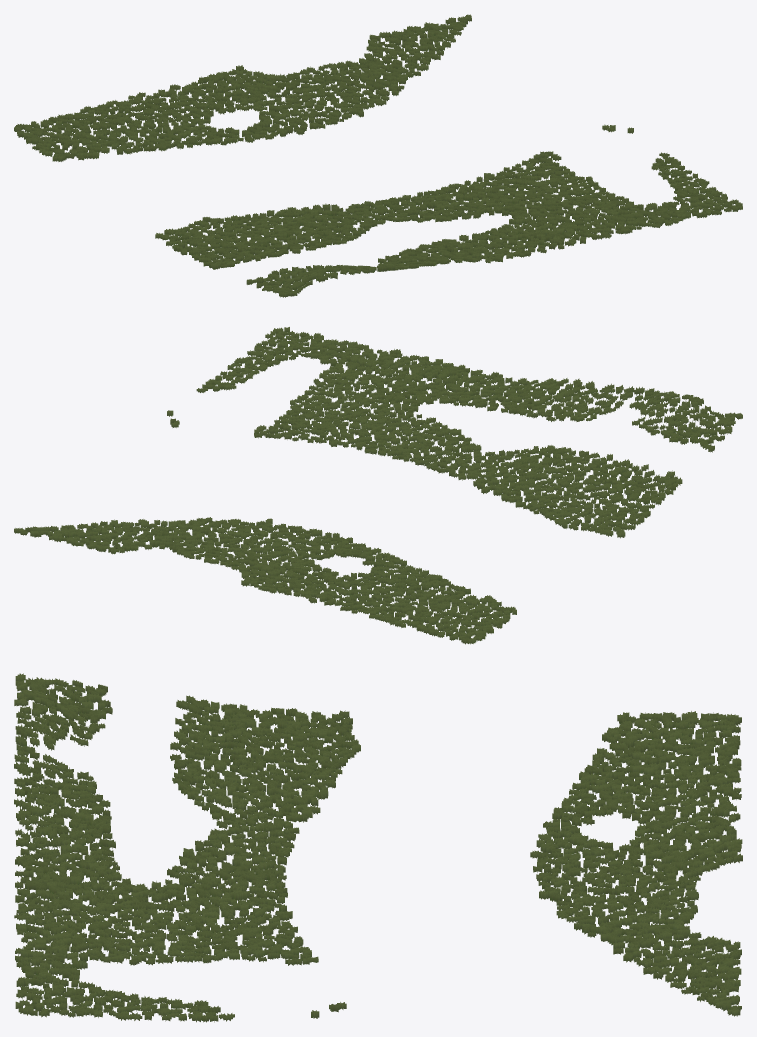
File: TRB8-GRASS-CHUNK-2-3.glb
The picture shows the model from 3 angles, top to bottom: view 1: azimuth 30°, elevation 25°; view 2: azimuth 150°, elevation 25°; view 3: azimuth 270°, elevation 25°; orthographic projection. The views are drawn at different scales.
Parts seen in each view (by area): view 1: TRB8-GRASS-CHUNK-2-3; view 2: TRB8-GRASS-CHUNK-2-3; view 3: TRB8-GRASS-CHUNK-2-3.
Boxes of the visible parts, <box> form: TRB8-GRASS-CHUNK-2-3: <box>14,14,742,297</box>; TRB8-GRASS-CHUNK-2-3: <box>14,327,742,644</box>; TRB8-GRASS-CHUNK-2-3: <box>14,673,742,1022</box>.
Size of the model in its own units: 40.44 by 3.44 by 40.57.
Materials: 1 (1 with a texture image).
